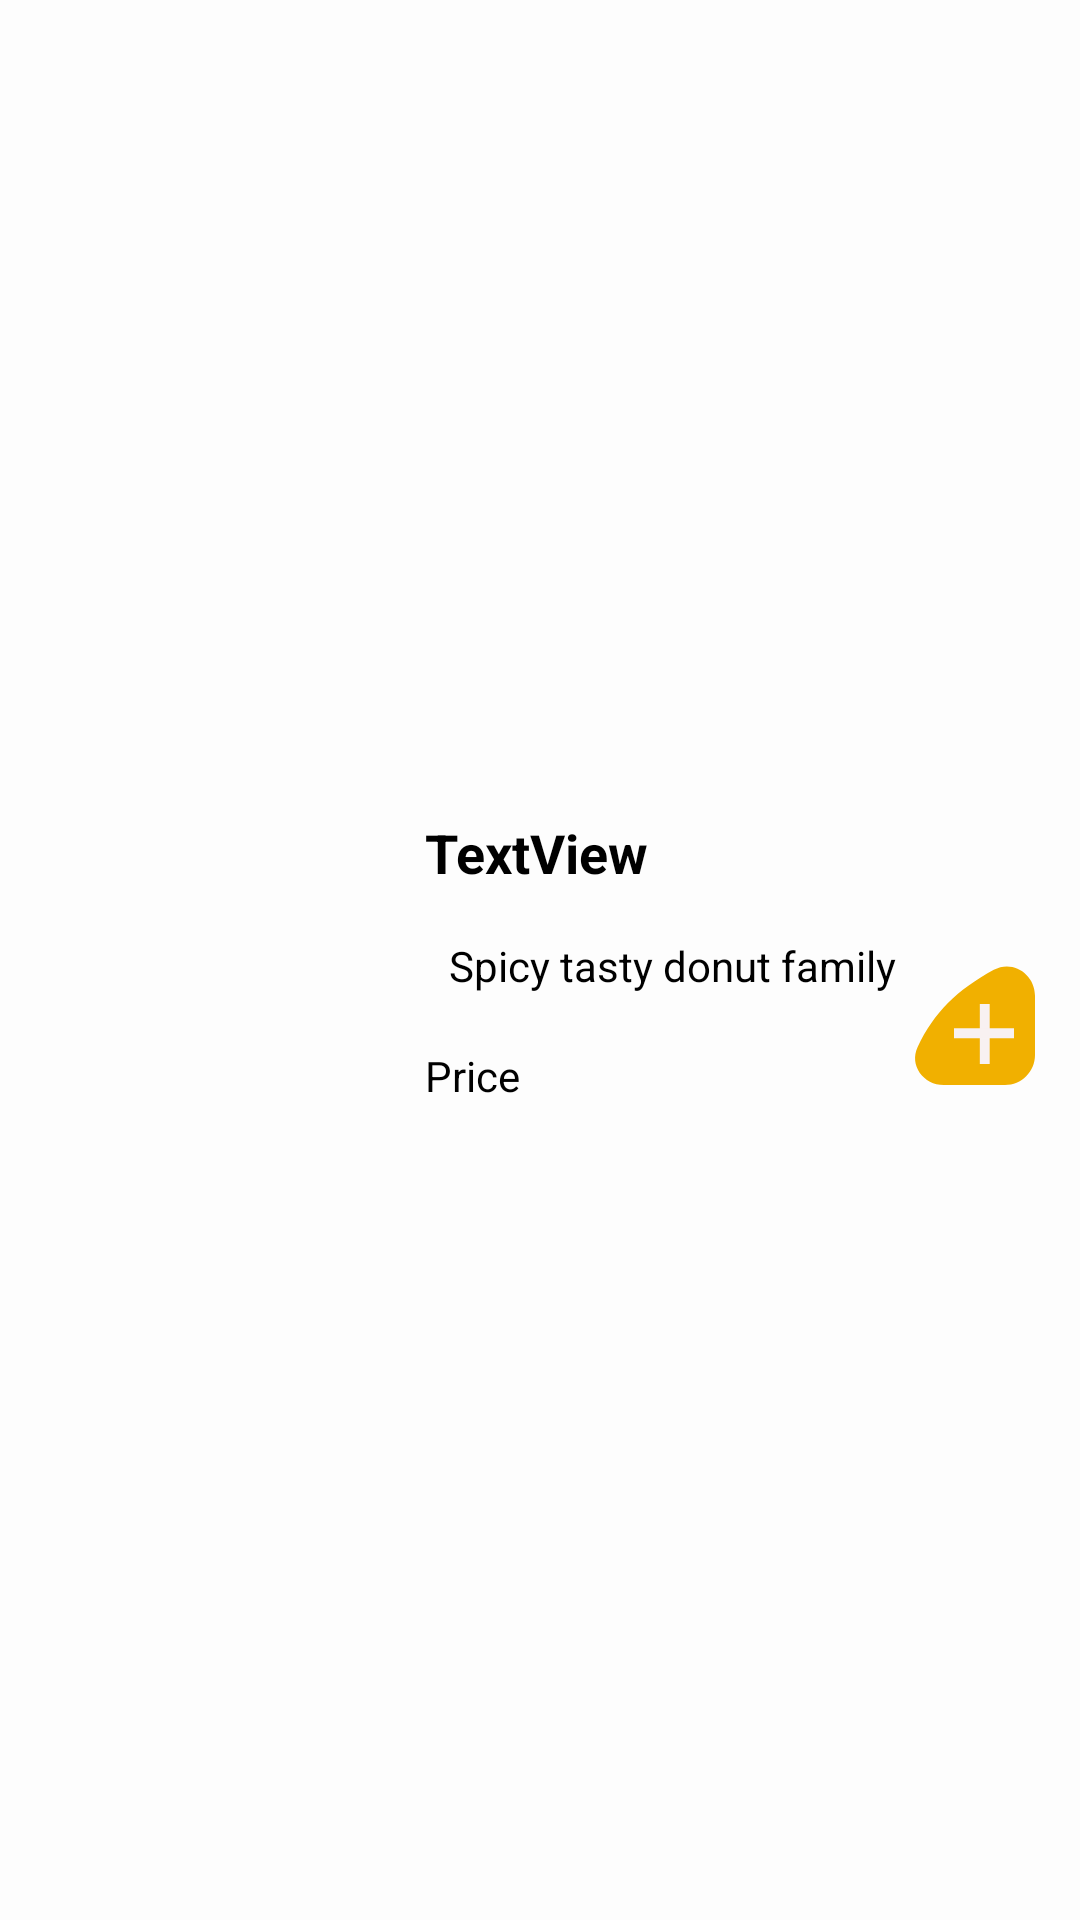

Named icons in this screenshot (1080*1920) and their centers, point (x, y):
plus: point (975, 1025)
